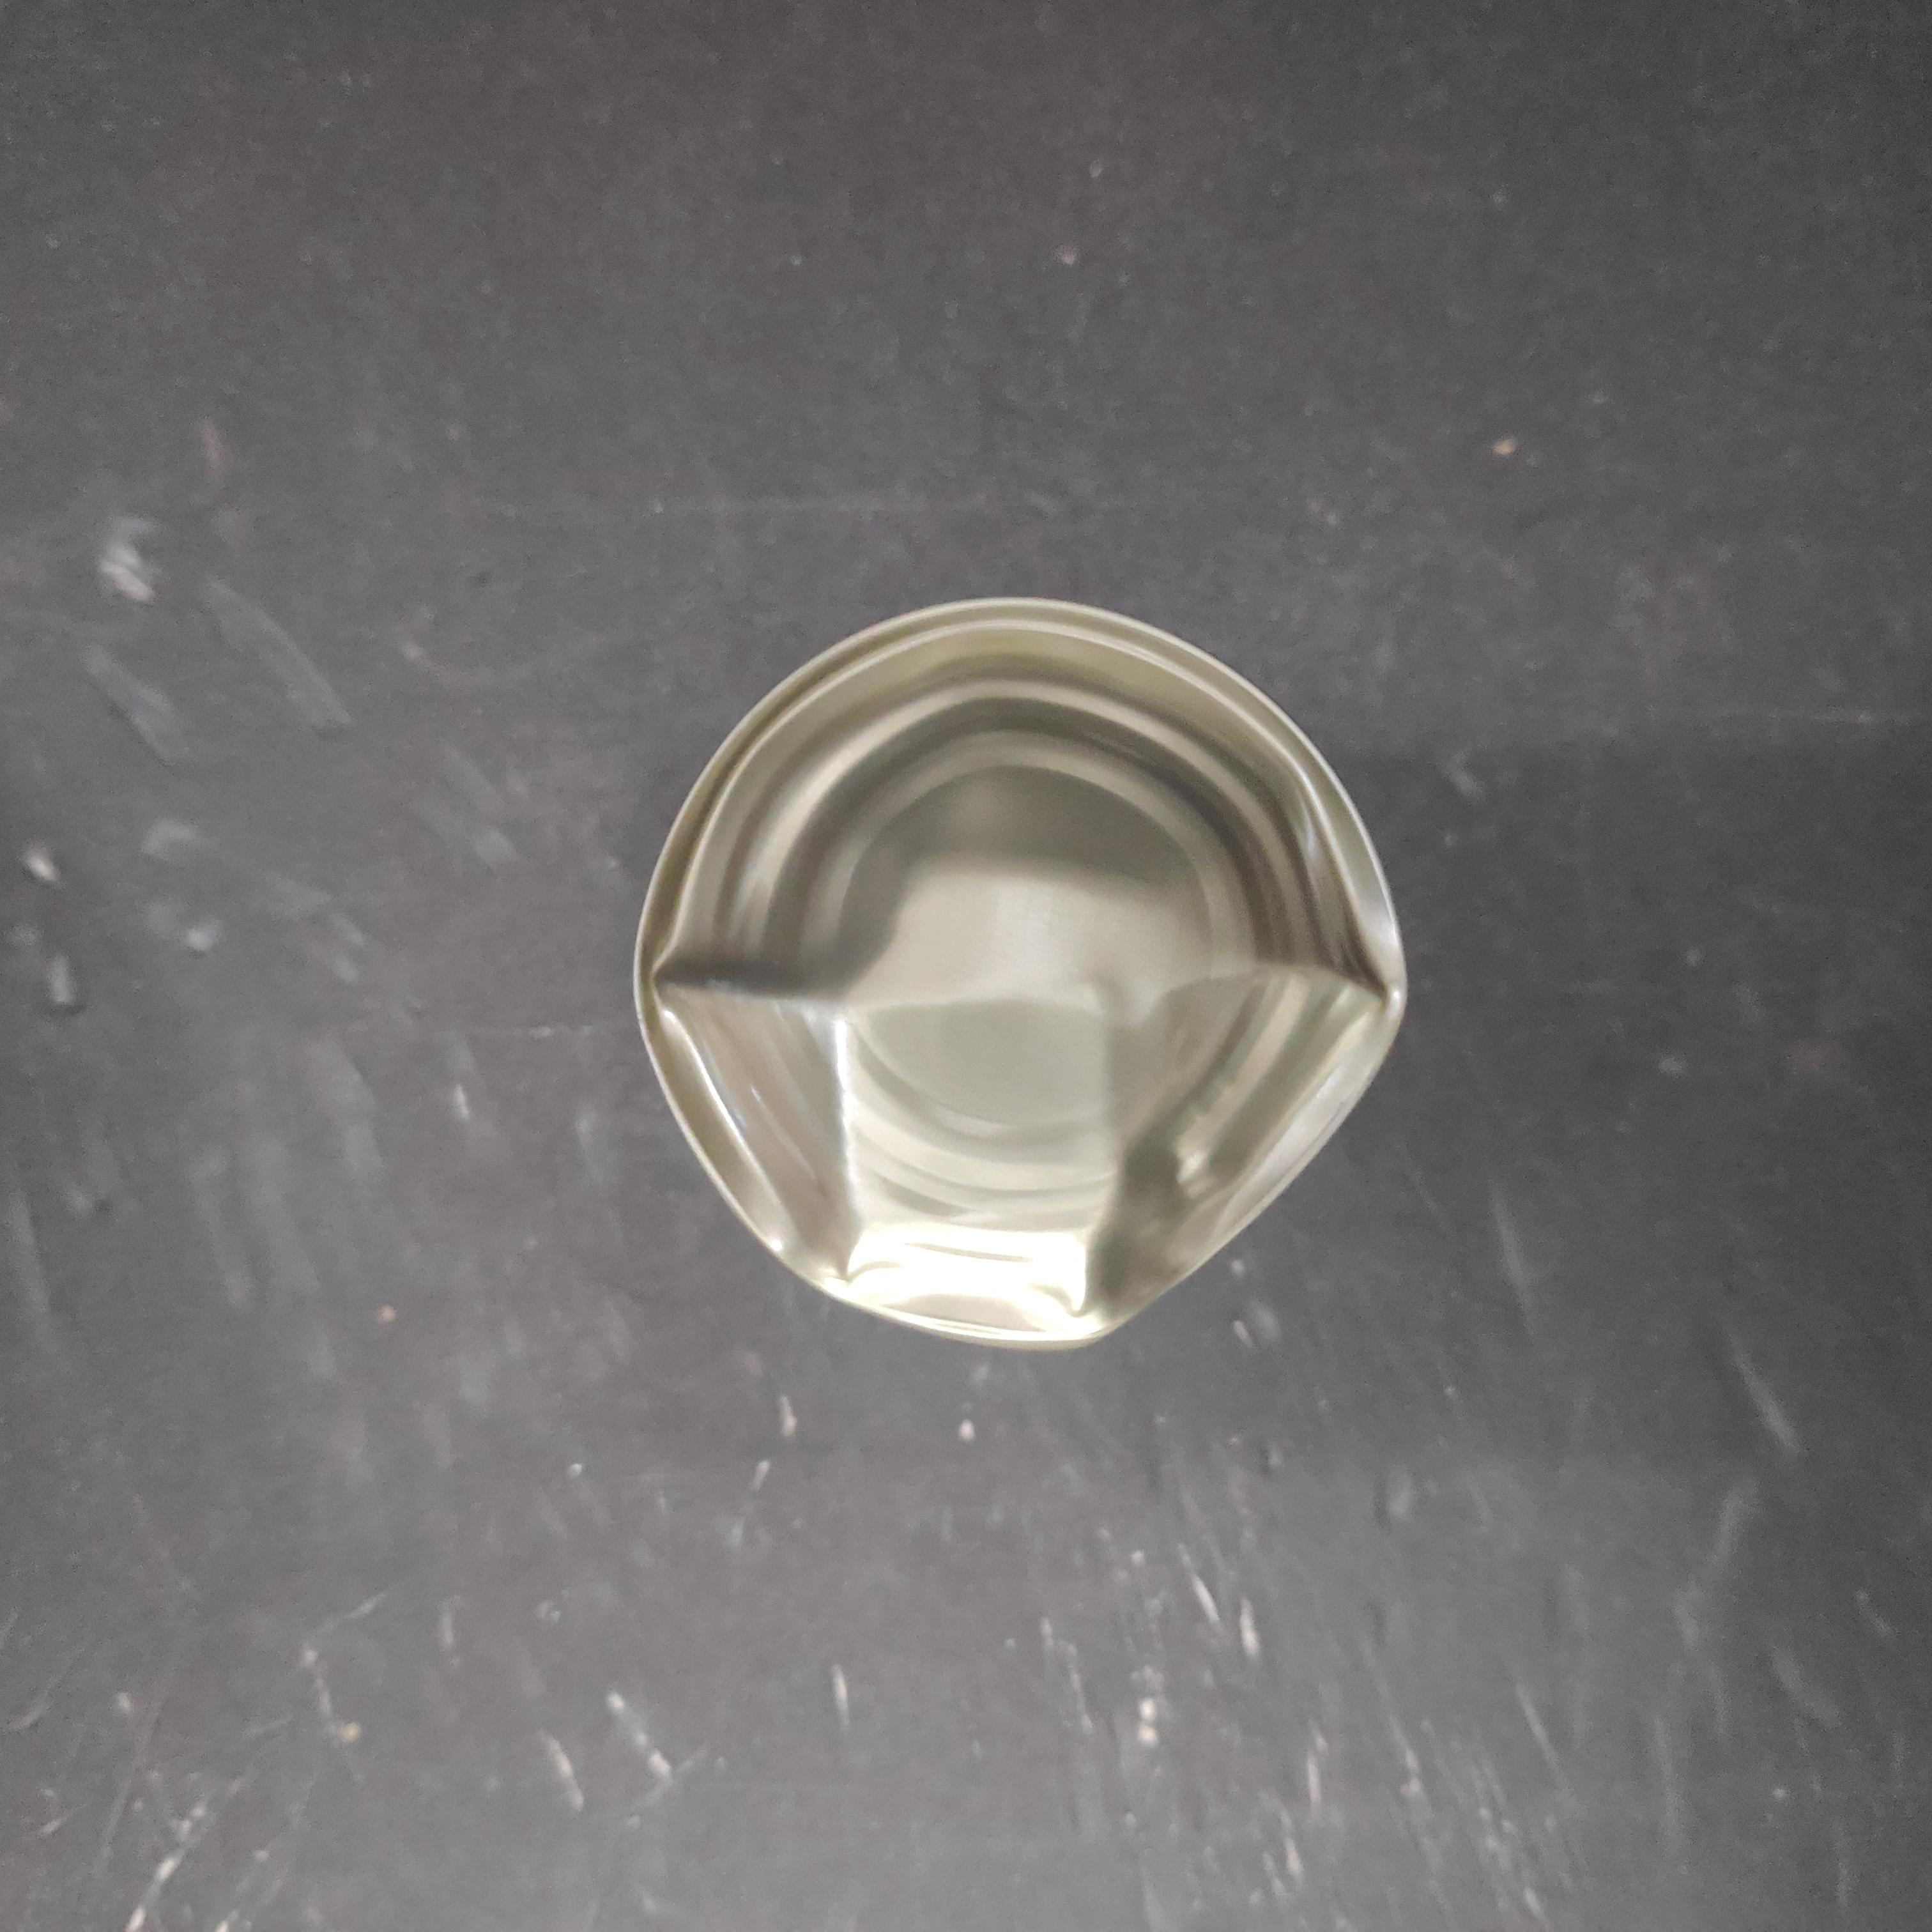Critical Defect: (573, 621, 1350, 1421)
